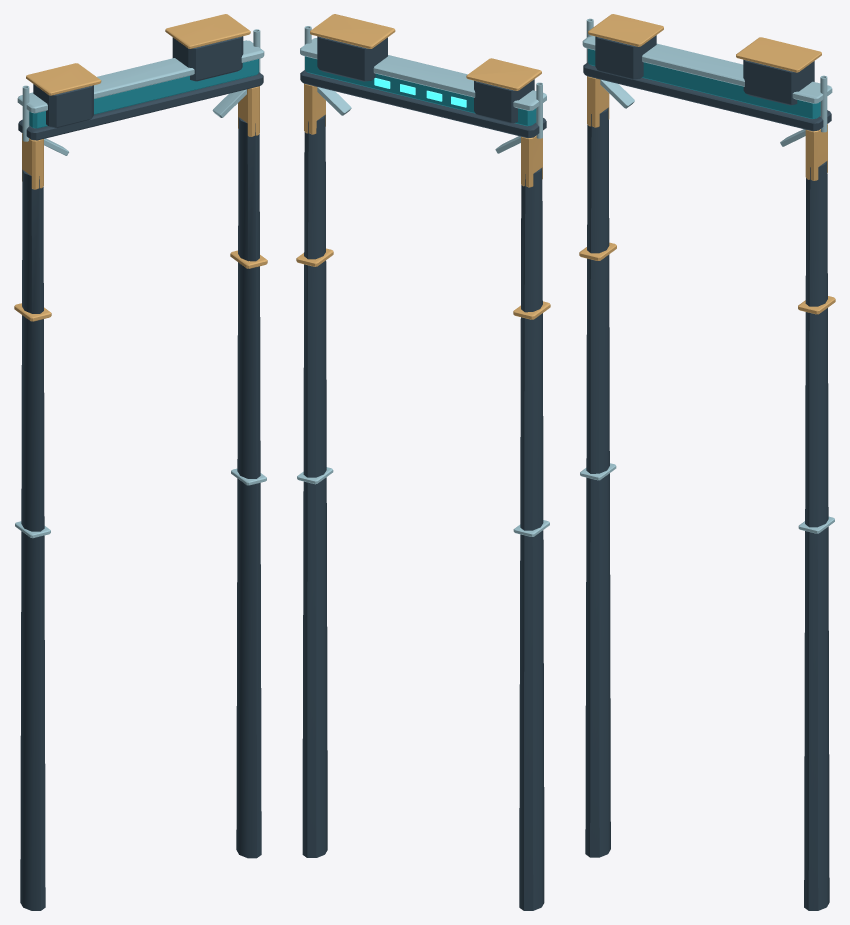
The model's file is DistantTransferGallery.glb.
The picture shows the model from 3 angles, left to right: view 1: azimuth 30°, elevation 25°; view 2: azimuth 150°, elevation 25°; view 3: azimuth 330°, elevation 25°; orthographic projection.
Visible parts, largest first — view 1: architecture; view 2: architecture; view 3: architecture.
Boxes of the visible parts, x1,y1,x2,y2 form: architecture: (14,14,267,910); architecture: (296,14,550,910); architecture: (579,14,835,910).
Size of the model in its own units: 22.4 by 74.97 by 4.55.
